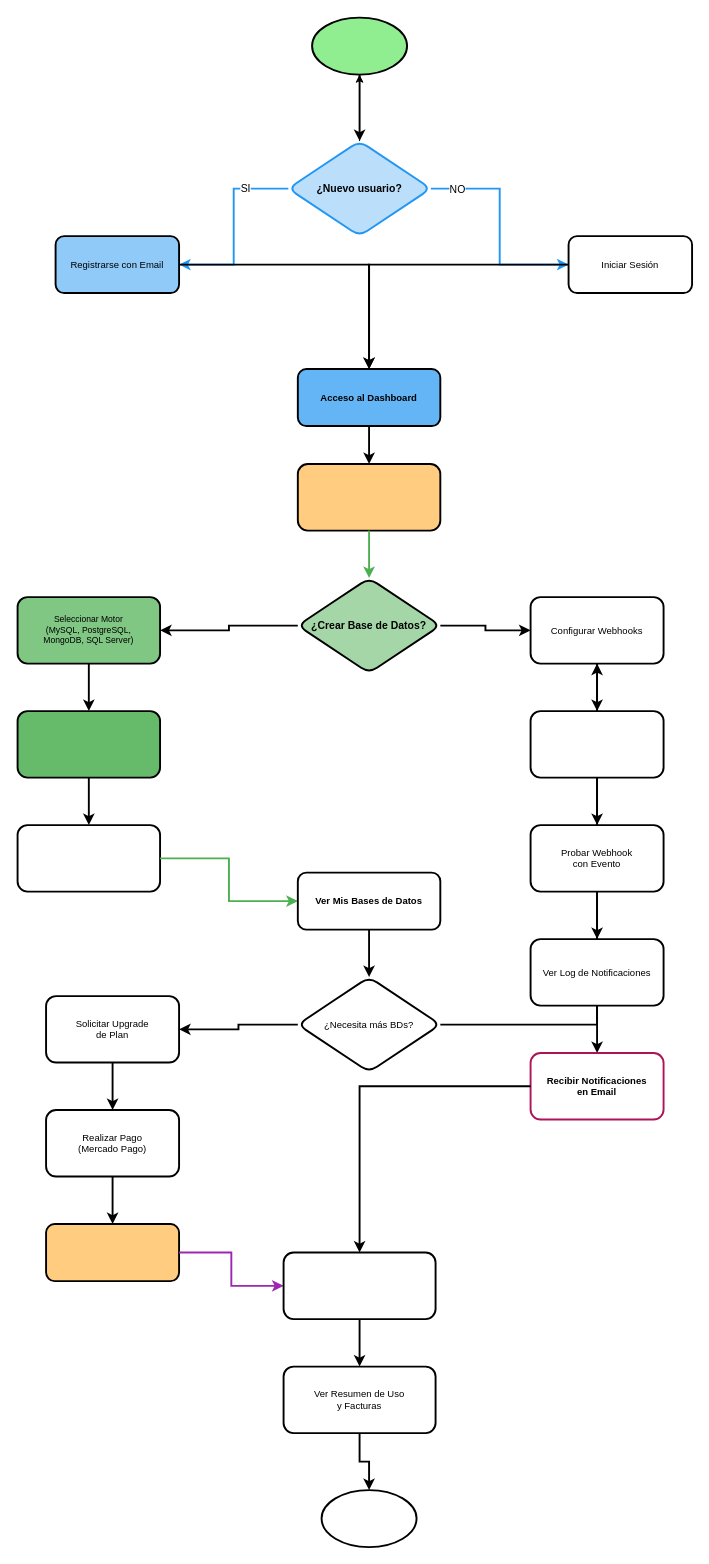
Some shapes in this 709 by 1564 pixel diagram are drawn without their labels. Here are the shapes that lost their labels. From the top down, the centre of each, then its label:
[359,45]: INICIO
[368,497]: Ver Plan Actual y Cuota Disponible
[88,744]: Crear BD con Credenciales Automáticas
[596,744]: Seleccionar Eventos a Recibir
[88,858]: Recibir Credenciales por Email
[112,1252]: Plan Actualizado
[359,1285]: Ver Dashboard Principal
[368,1518]: FIN
